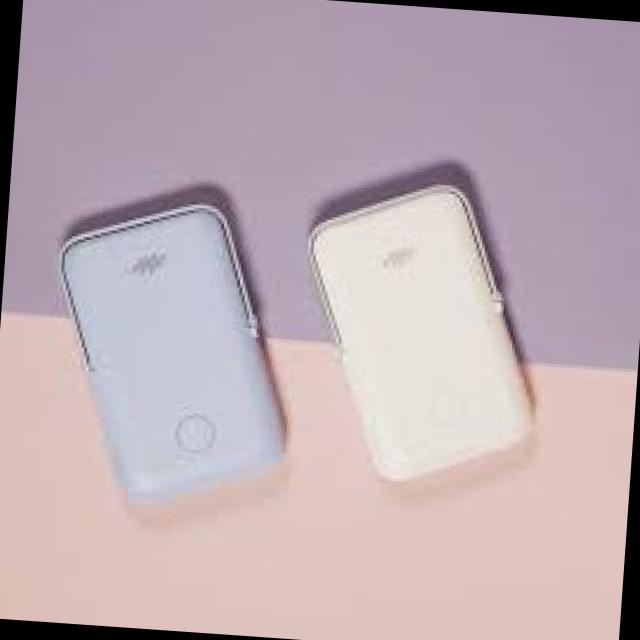portable-charger: (289, 170, 557, 496), (37, 187, 305, 511)
